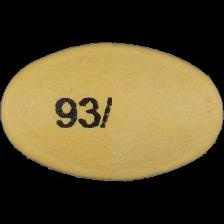0615-7916: (0, 0, 224, 224)
